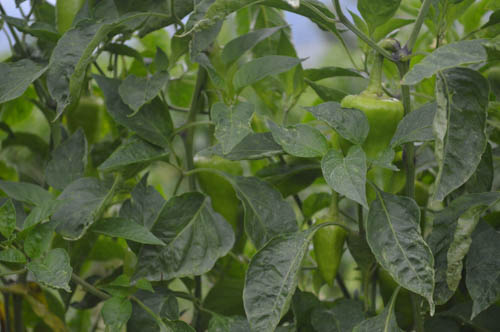ChiliPepper: (335, 96, 403, 204), (195, 154, 242, 246), (313, 219, 345, 286), (70, 98, 105, 156)
